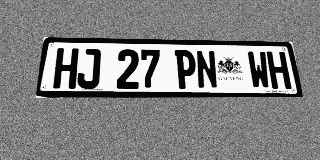2: (117, 49, 139, 89)
7: (139, 49, 161, 89)
H: (53, 48, 79, 89), (266, 51, 292, 89)
J: (76, 49, 101, 89)
N: (195, 50, 218, 89)
P: (175, 50, 197, 89)
W: (247, 51, 271, 89)
